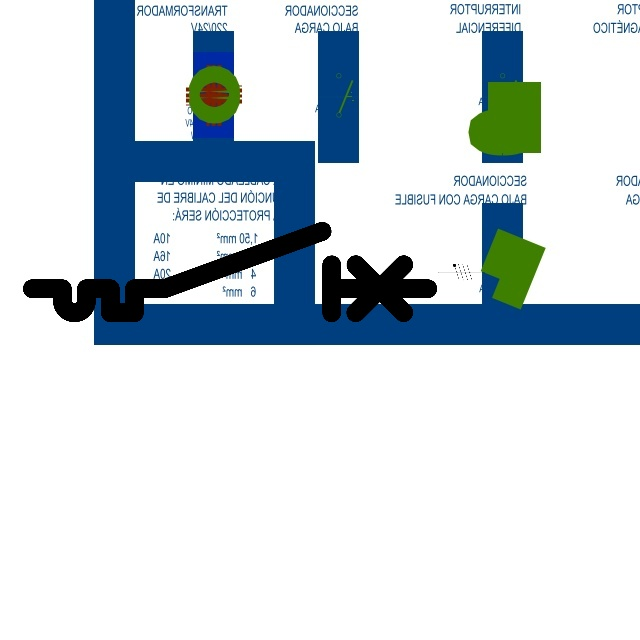interruptor_termomagnetico: (22, 221, 438, 323)
